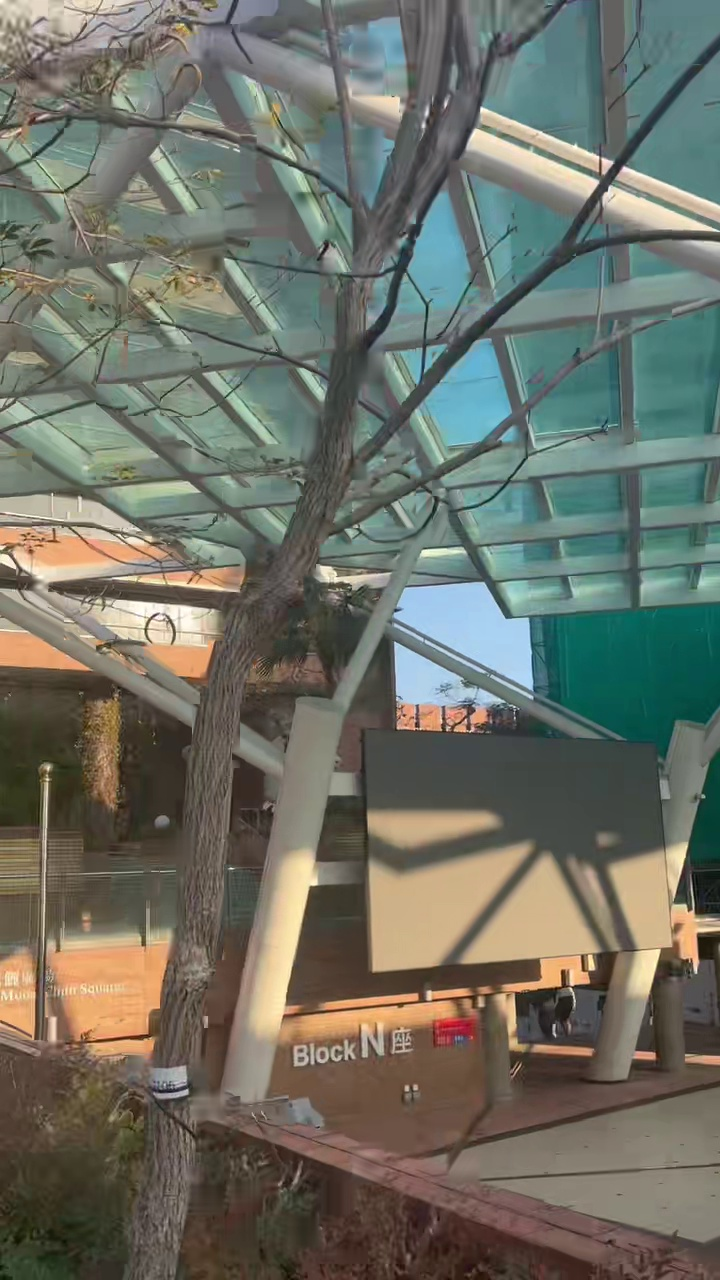Tabebuia chrysantha: (124, 0, 719, 1279)
